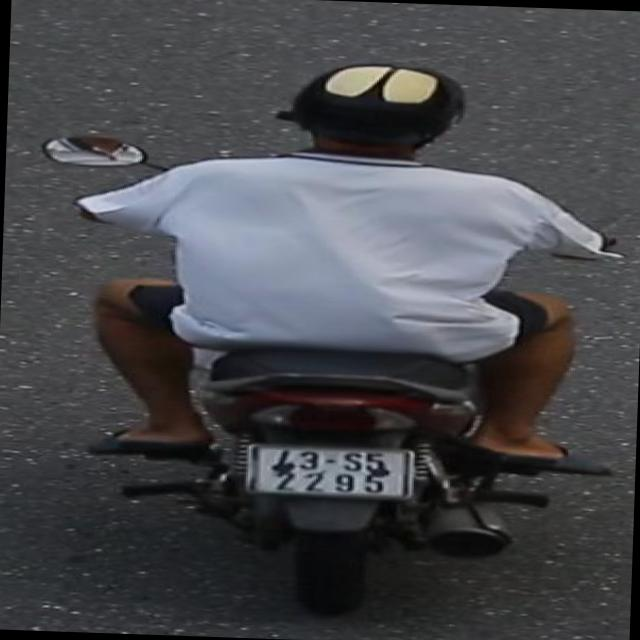LP: (244, 440, 422, 506)
helmet: (273, 57, 470, 176)
